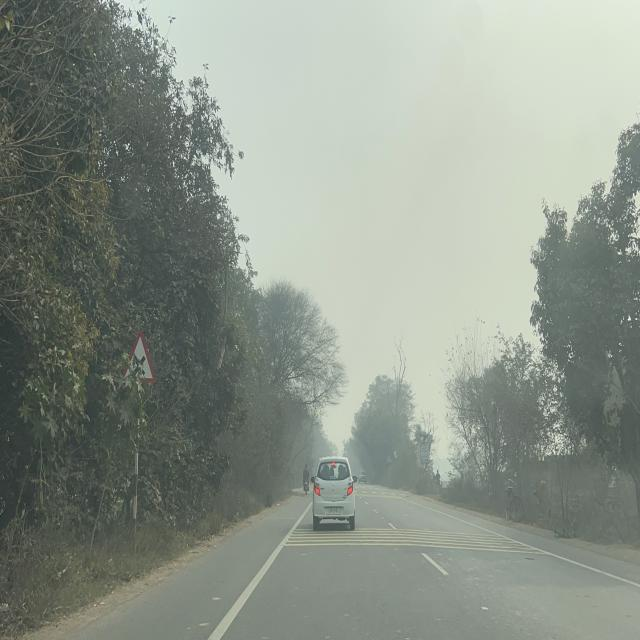CROSS_ROAD: (121, 319, 156, 384)
